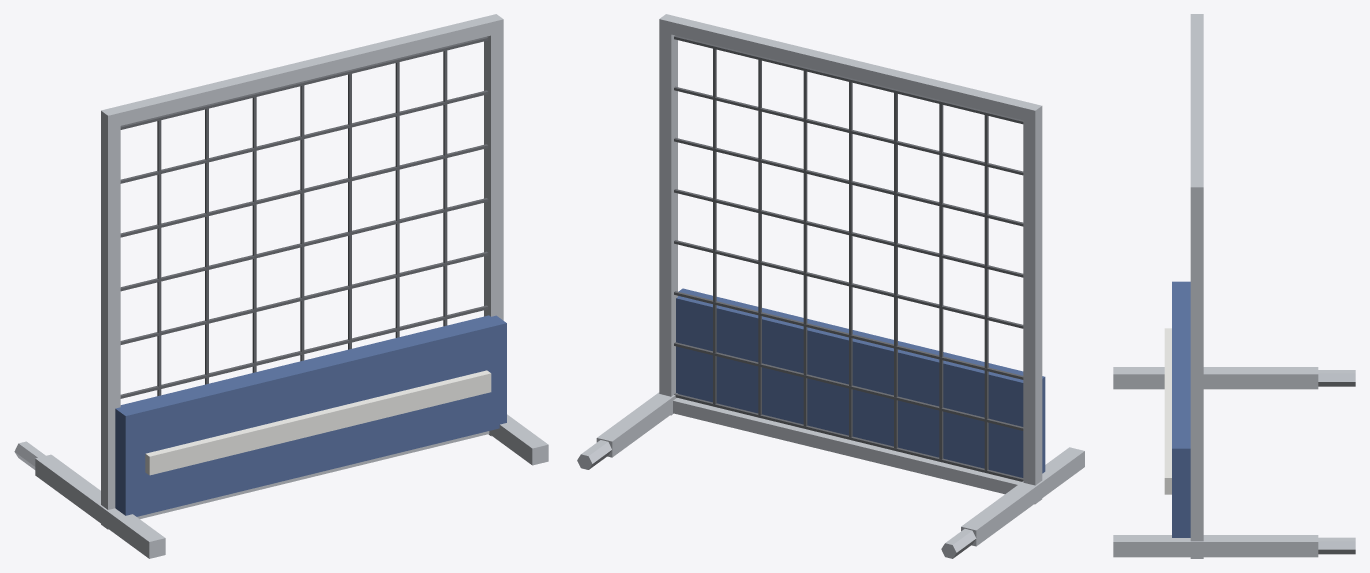
File: baseball-park-and-batting-cages-protective-screen-cc9fc4bf__33762.glb
3 views of the same model, side by side, from view 1: azimuth 30°, elevation 25°; view 2: azimuth 150°, elevation 25°; view 3: azimuth 270°, elevation 25° (orthographic). The views are drawn at different scales.
Parts seen in each view (by area): view 1: protective-screen; view 2: protective-screen; view 3: protective-screen.
Part boxes in pixels (box(x1,y1,x2,y2)): protective-screen: box(14, 14, 548, 558); protective-screen: box(577, 14, 1084, 558); protective-screen: box(1113, 14, 1355, 558).
Bounding box in the file's own units: 2.22 × 2.2 × 1.3.
